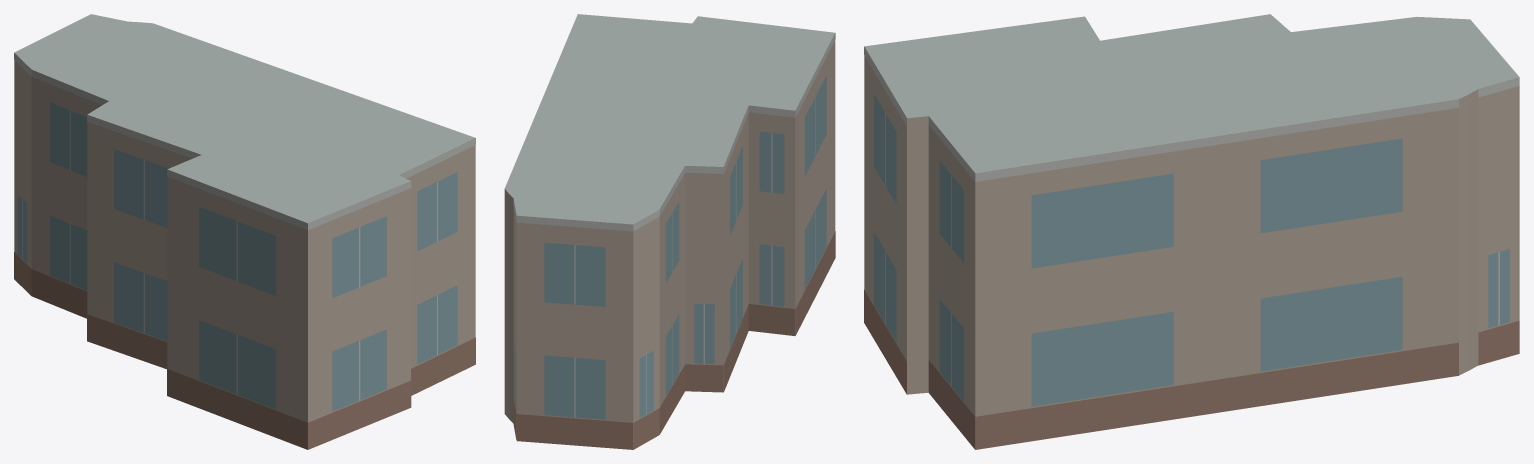
File: survey-upis-33023526.glb
The picture shows the model from 3 angles, left to right: view 1: azimuth 30°, elevation 25°; view 2: azimuth 150°, elevation 25°; view 3: azimuth 270°, elevation 25°; orthographic projection. The views are drawn at different scales.
Parts seen in each view (by area): view 1: survey-upis-33023526.tmp; view 2: survey-upis-33023526.tmp; view 3: survey-upis-33023526.tmp.
Part boxes in pixels (x1,y1,x2,y2): survey-upis-33023526.tmp: (14, 14, 475, 449); survey-upis-33023526.tmp: (504, 14, 835, 449); survey-upis-33023526.tmp: (864, 14, 1519, 449).
Bounding box in the file's own units: 9.78 × 7.9 × 16.98.
